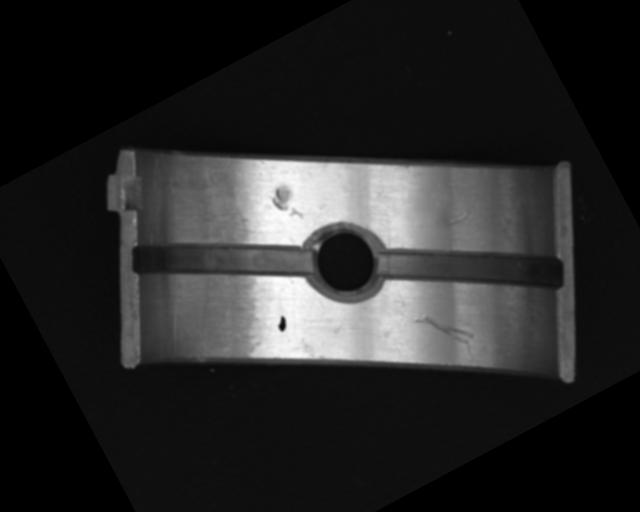blot: (273, 313, 290, 333)
bruise: (265, 180, 306, 229)
gap: (372, 178, 572, 357), (123, 175, 317, 345)
hole: (296, 210, 399, 313)
nick: (412, 295, 477, 362), (444, 208, 473, 230)
